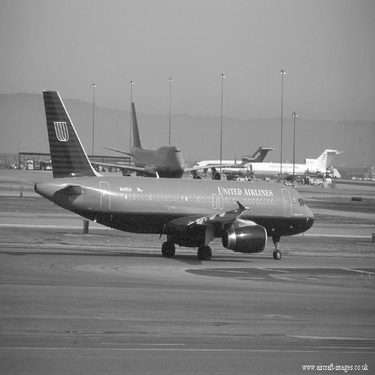airplane: (12, 78, 326, 276), (79, 93, 243, 186), (228, 140, 343, 192), (171, 142, 275, 185)
